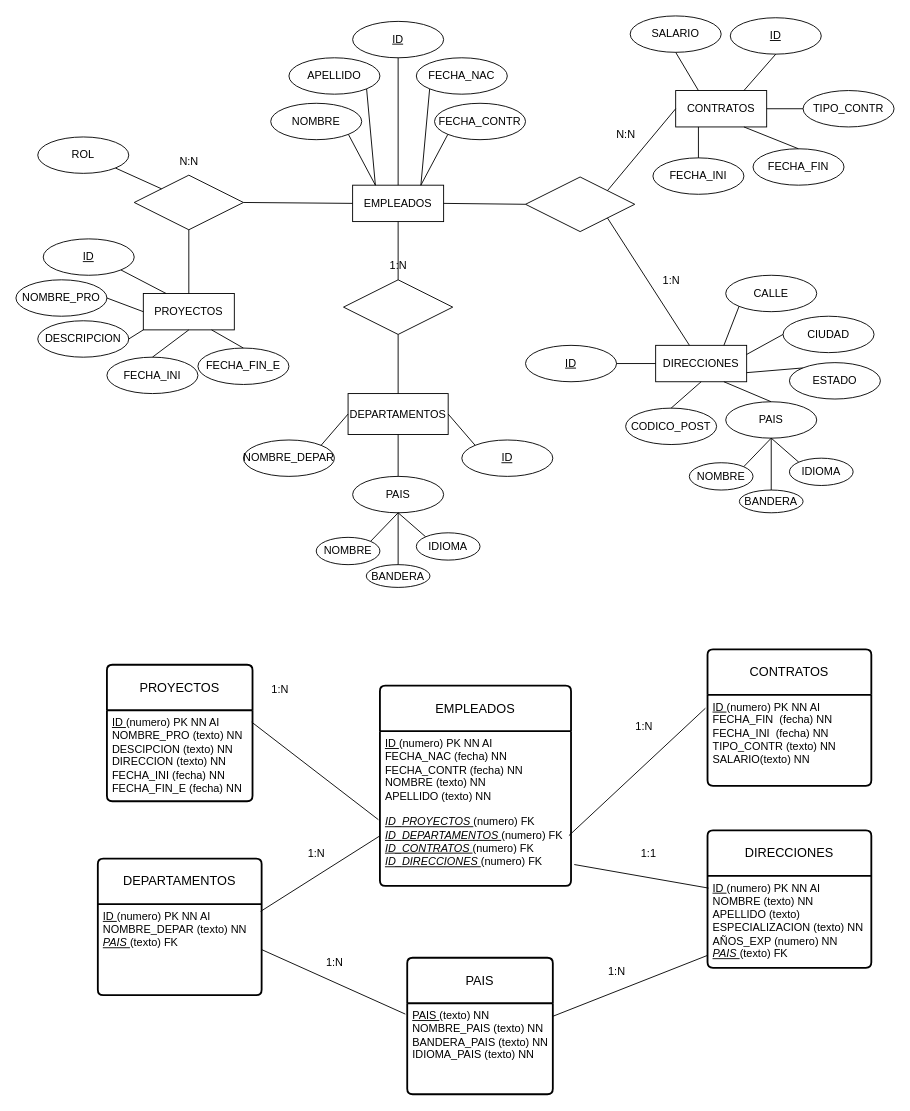
Some shapes in this 910 by 1111 pixel diagram are drawn without their labels. Each missing label, with the centre of its shape:
PERTENECEN: point 398,306
TIENEN: point 580,204
TRABAJA: point 188,202
